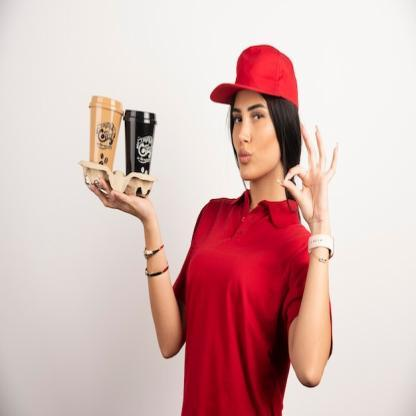ok: (274, 110, 344, 226)
